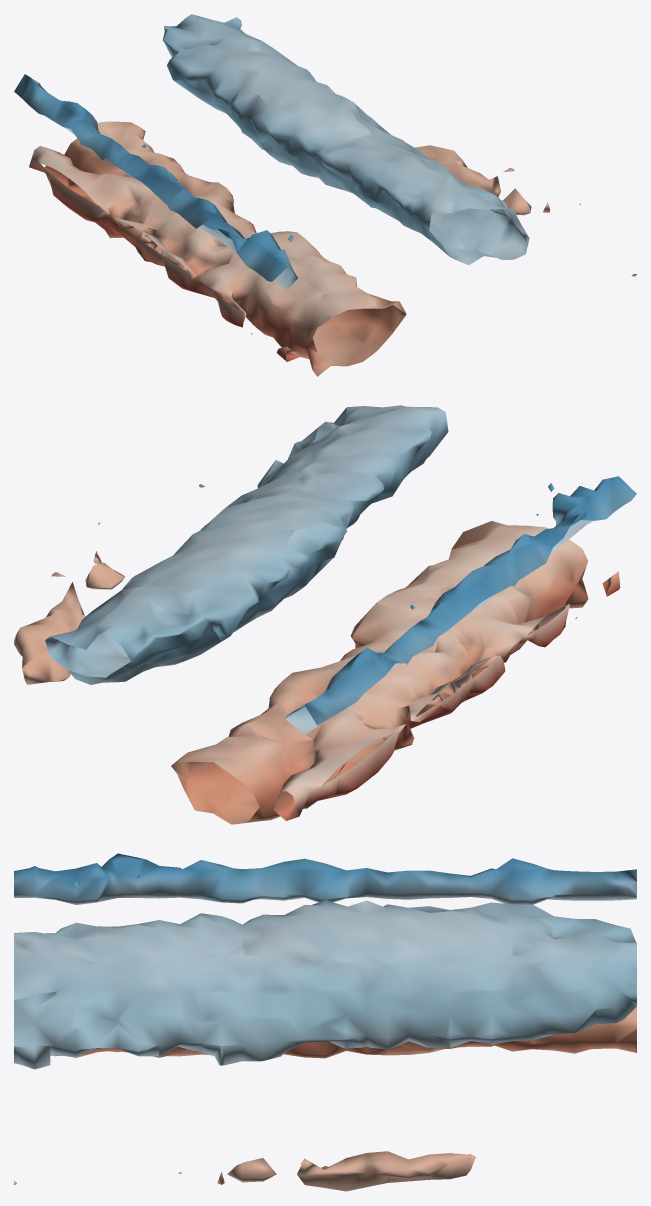
3 renders of one model, top to bottom at view 1: azimuth 30°, elevation 25°; view 2: azimuth 150°, elevation 25°; view 3: azimuth 270°, elevation 25°, orthographic. The views are drawn at different scales.
Size of the model in its own units: 2.1 by 0.8317 by 2.5.
